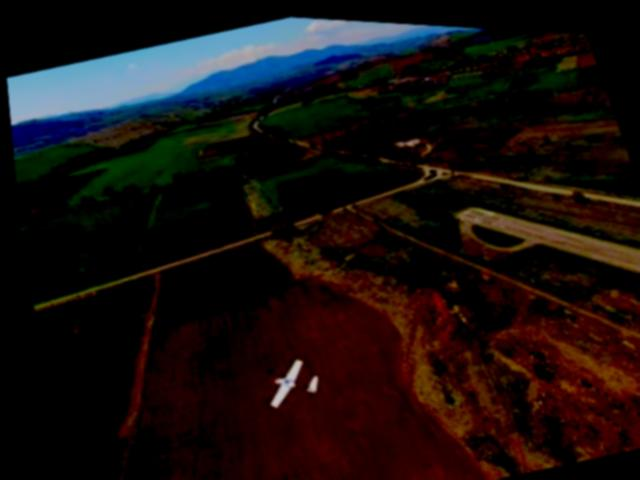uav: (243, 339, 327, 418)
